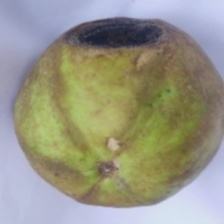guava: (23, 21, 190, 207)
